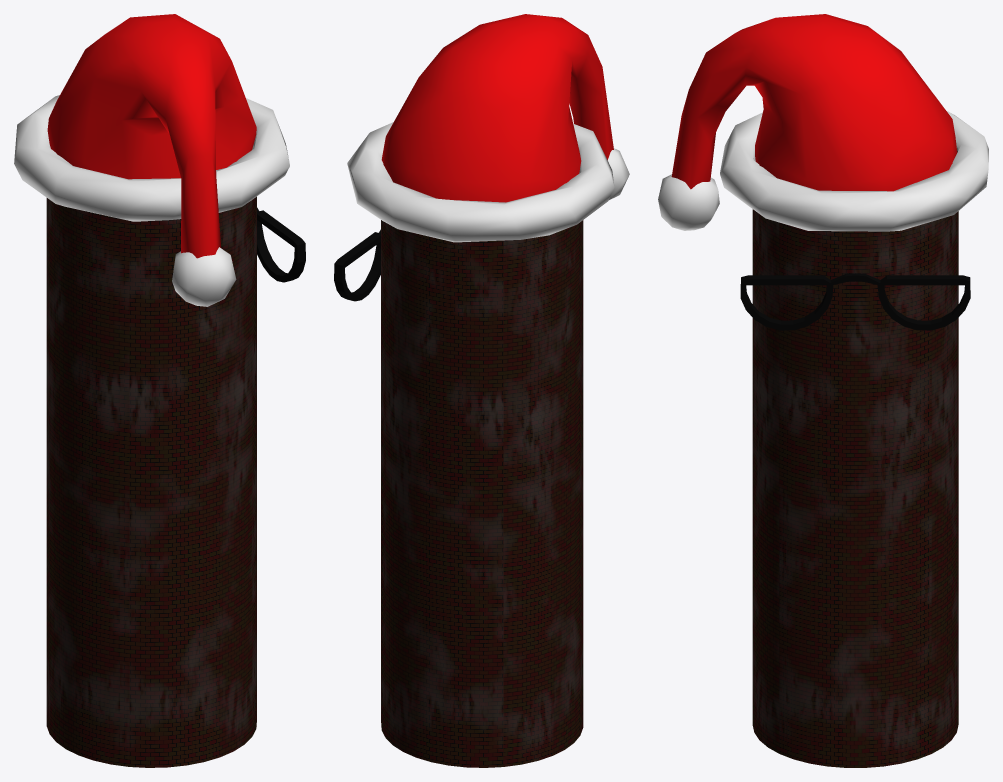
The model's file is Donjon.fbx.
The picture shows the model from 3 angles, left to right: view 1: azimuth 30°, elevation 25°; view 2: azimuth 150°, elevation 25°; view 3: azimuth 270°, elevation 25°; orthographic projection. The views are drawn at different scales.
Visible parts, largest first — view 1: Cylinder.010, Cylinder.002, Cylinder.003, Cylinder.009; view 2: Cylinder.010, Cylinder.002, Cylinder.003, Cylinder.009; view 3: Cylinder.010, Cylinder.002, Cylinder.003, Cylinder.009.
Boxes of the visible parts, box(x1,y1,x2,y2) form: Cylinder.010: box(46, 196, 256, 767); Cylinder.002: box(47, 14, 256, 258); Cylinder.003: box(14, 95, 289, 306); Cylinder.009: box(257, 207, 305, 282); Cylinder.010: box(381, 220, 583, 767); Cylinder.002: box(381, 14, 613, 202); Cylinder.003: box(347, 122, 629, 242); Cylinder.009: box(334, 229, 380, 301); Cylinder.010: box(752, 148, 958, 767); Cylinder.002: box(671, 14, 957, 191); Cylinder.003: box(658, 111, 988, 231); Cylinder.009: box(740, 273, 970, 330).
Bounding box in the file's own units: 5513 × 15934 × 6834.
Materials: 4 (1 with a texture image).
